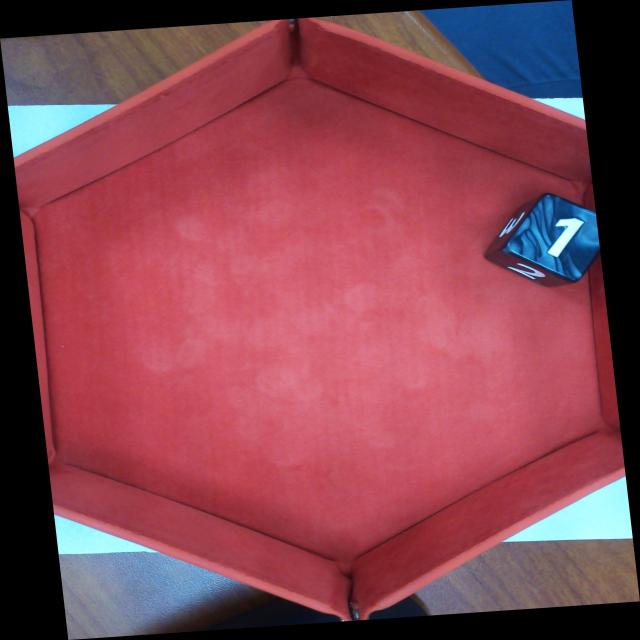dice: (504, 192, 600, 277)
